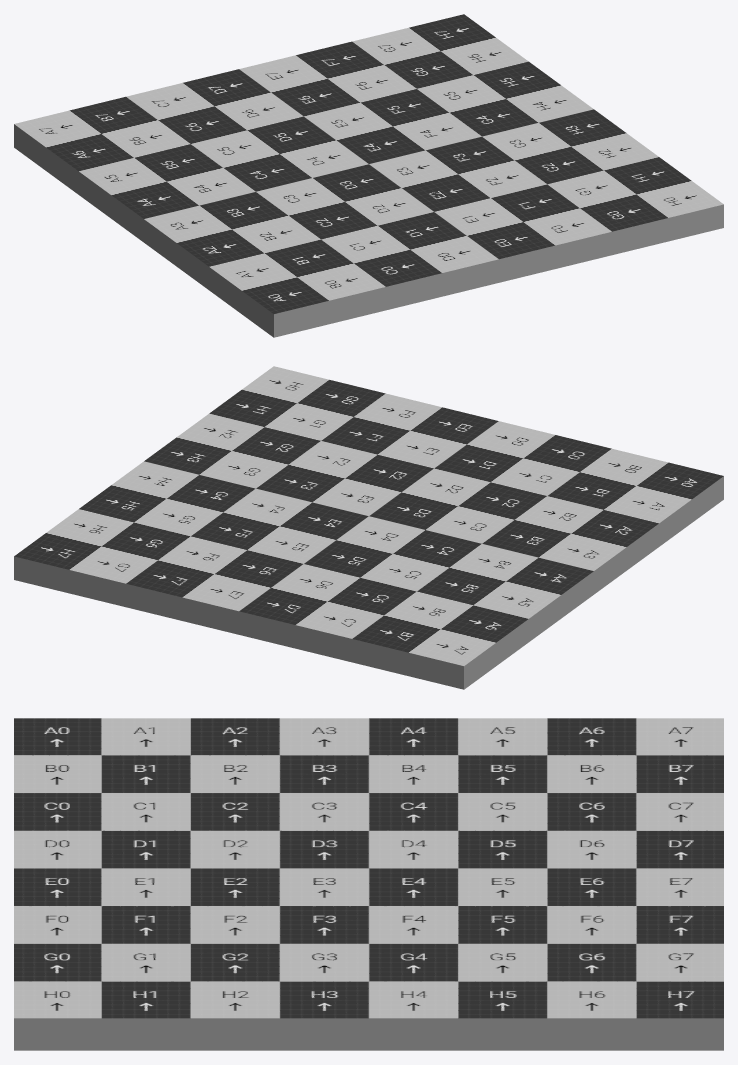
Rendered from yukadesu.fbx.
3 renders of one model, top to bottom at view 1: azimuth 30°, elevation 25°; view 2: azimuth 150°, elevation 25°; view 3: azimuth 270°, elevation 25°, orthographic. The views are drawn at different scales.
Visible parts, largest first — view 1: pCube1; view 2: pCube1; view 3: pCube1.
Boxes of the visible parts, box(x1,y1,x2,y2) form: pCube1: box(14, 14, 723, 337); pCube1: box(14, 366, 723, 689); pCube1: box(14, 718, 723, 1050).
Size of the model in its own units: 20 by 1 by 20.
2 materials, 1 textured.
